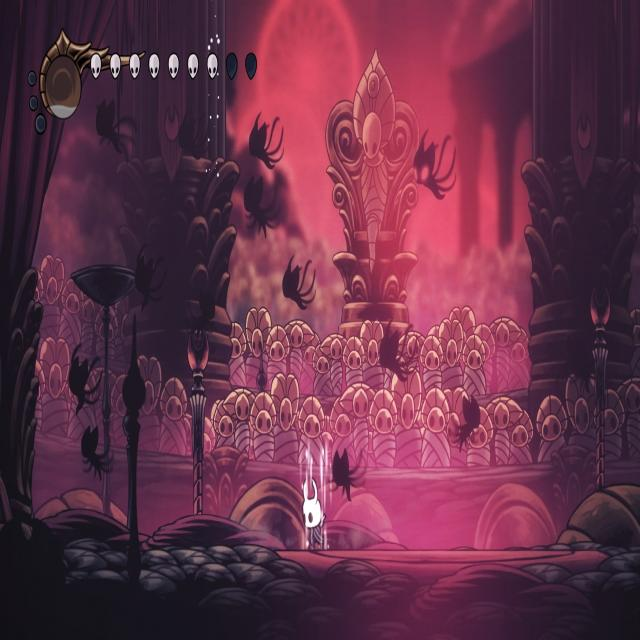Player: (298, 462, 327, 552)
Staggered_Grimm: (412, 126, 457, 203)
